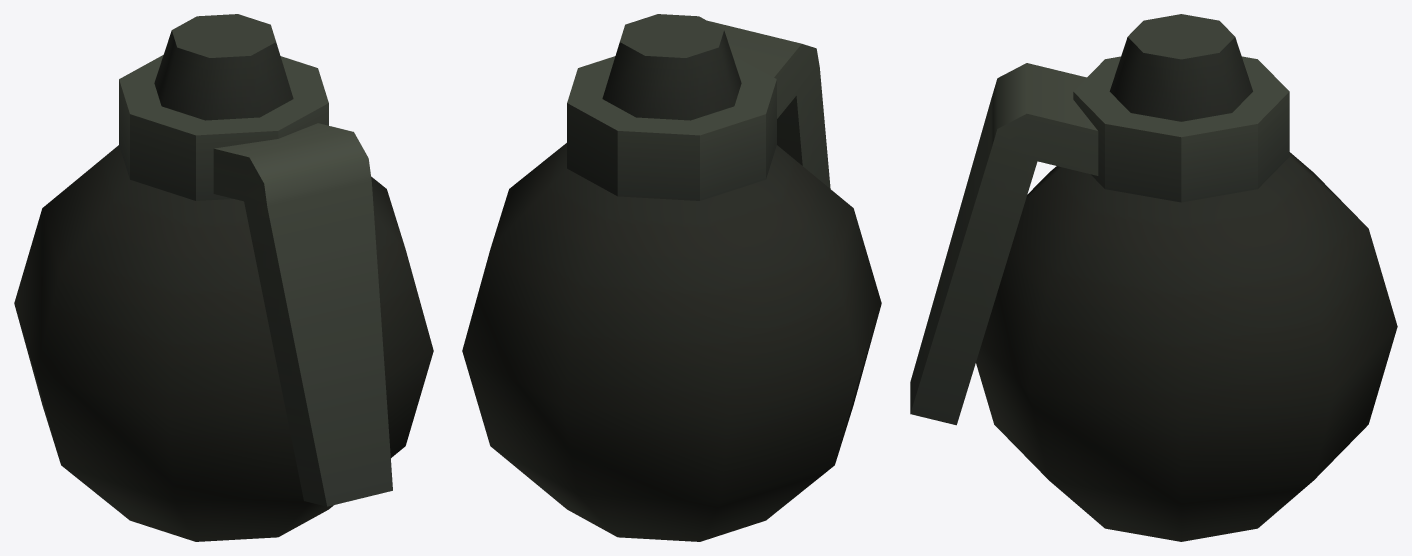
File: grenade.glb
The picture shows the model from 3 angles, left to right: view 1: azimuth 30°, elevation 25°; view 2: azimuth 150°, elevation 25°; view 3: azimuth 270°, elevation 25°; orthographic projection.
Visible parts, largest first — view 1: grenade-b; view 2: grenade-b; view 3: grenade-b.
Part boxes in pixels (box(x1,y1,x2,y2)): grenade-b: box(14, 14, 433, 541); grenade-b: box(462, 14, 881, 541); grenade-b: box(910, 14, 1397, 541).
Bounding box in the file's own units: 0.1775 × 0.2081 × 0.2.
1 material, 1 textured.
